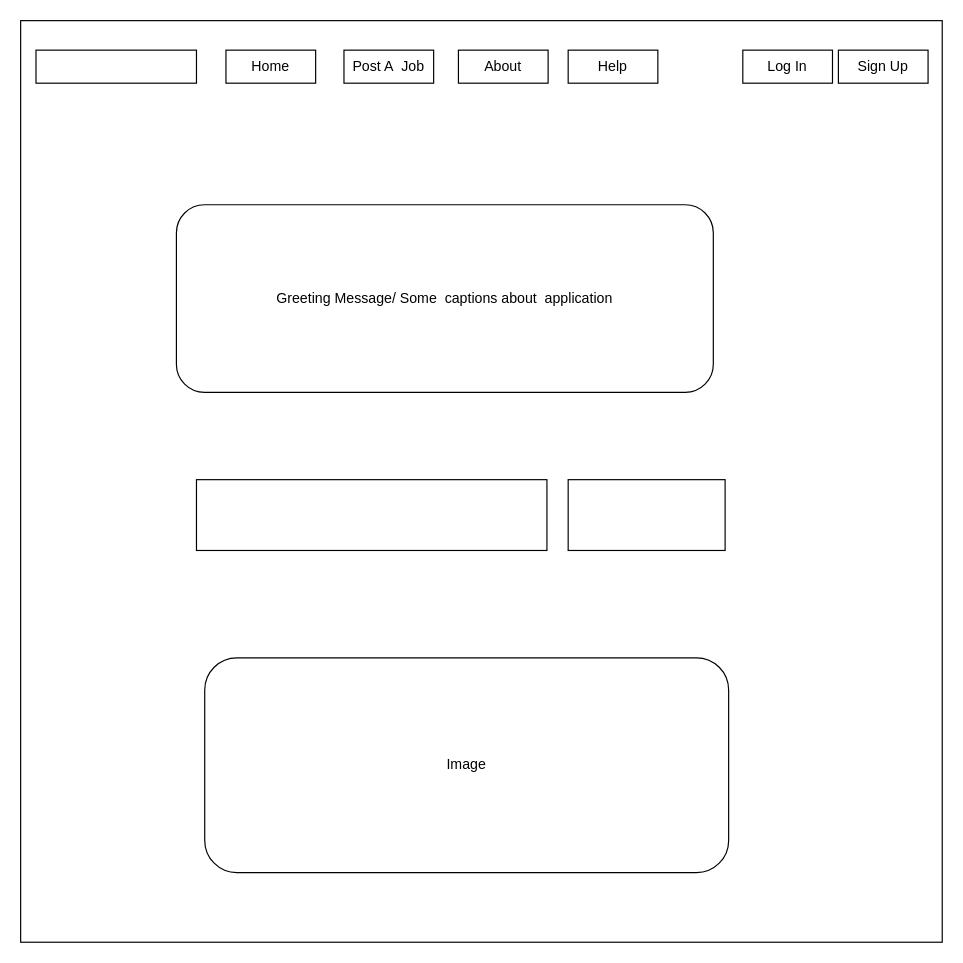
Image size: 963x963. Some labels were removed from this diagram. Here are the shapes that lost their labels. From the top down, the centre of each, then its label:
(115,66): Name
(371,514): Job type/ skill/ company name
(646,514): Search
